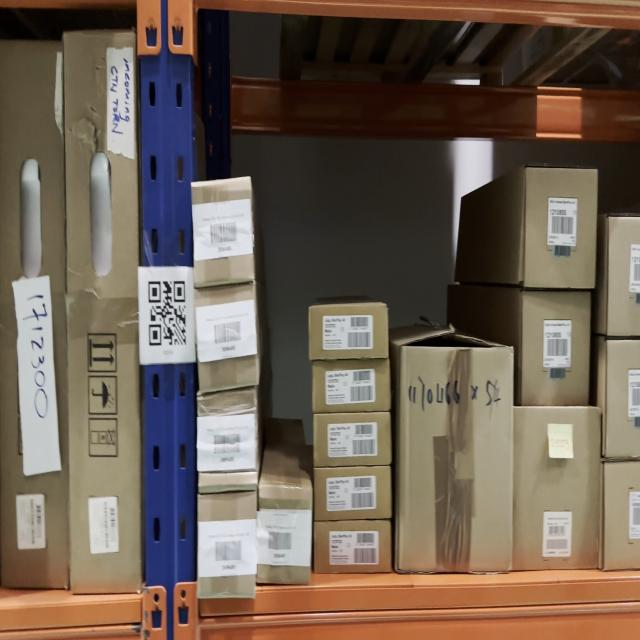box: (64, 31, 144, 593), (0, 40, 64, 596), (402, 345, 513, 575), (514, 404, 595, 569), (523, 289, 592, 406), (526, 172, 592, 286), (197, 289, 258, 394), (199, 390, 259, 490), (200, 492, 255, 601), (194, 185, 254, 283), (260, 493, 310, 578), (310, 304, 388, 358), (316, 467, 393, 520), (314, 360, 388, 412), (314, 412, 388, 464), (317, 523, 390, 572)
